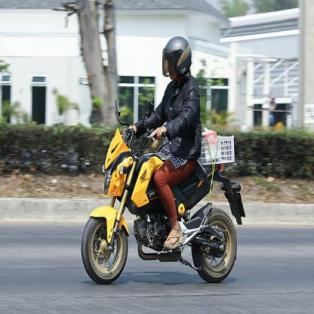Motocicleta: (78, 117, 240, 285)
